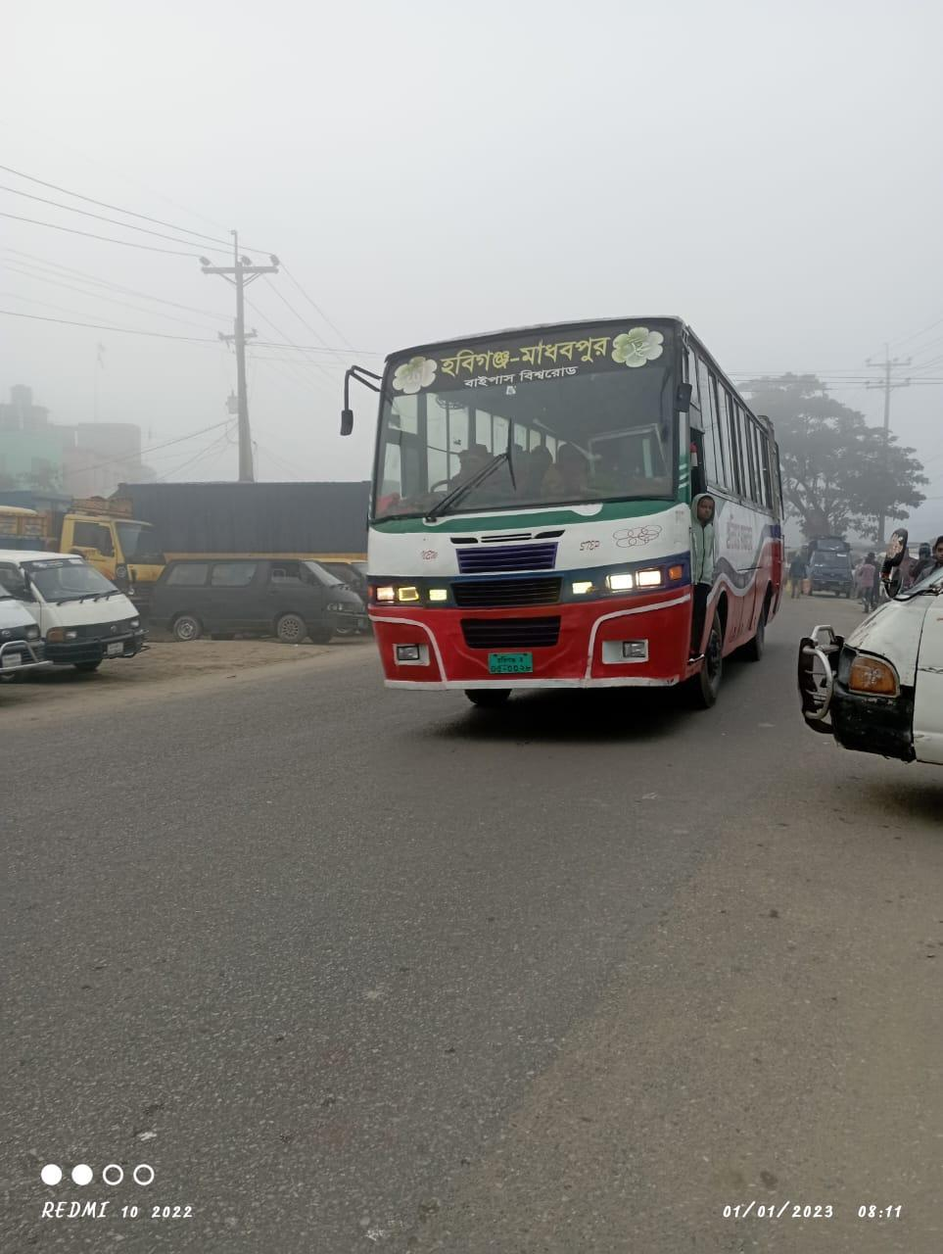Bus: (323, 306, 791, 783)
Car: (147, 545, 362, 673), (9, 542, 157, 690), (806, 528, 865, 610)
